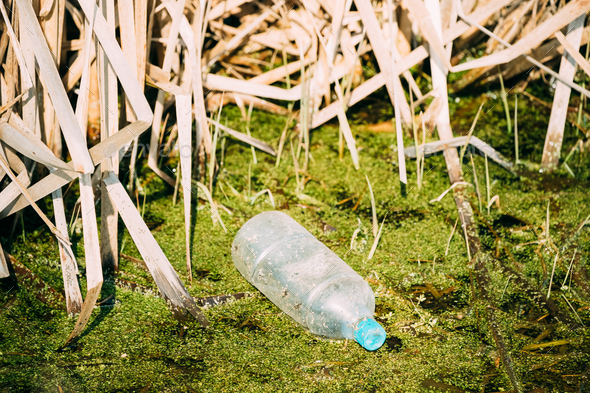plastic_bottle: (226, 208, 398, 357)
